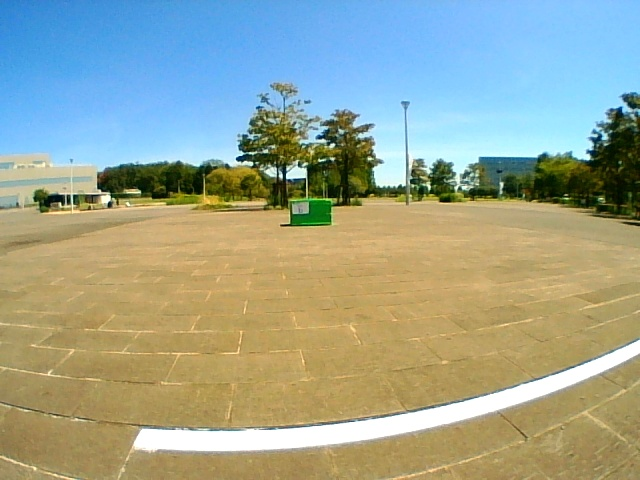green_box: (290, 199, 331, 225)
tag: (293, 203, 308, 214)
